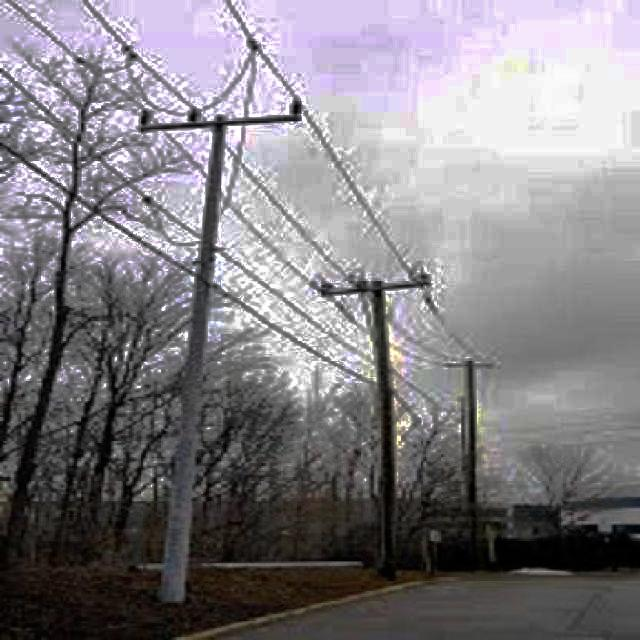poles: (148, 83, 306, 603), (323, 251, 429, 578), (446, 351, 499, 571)
wires: (218, 4, 418, 276), (216, 206, 371, 386), (74, 3, 206, 112), (234, 141, 341, 275)
